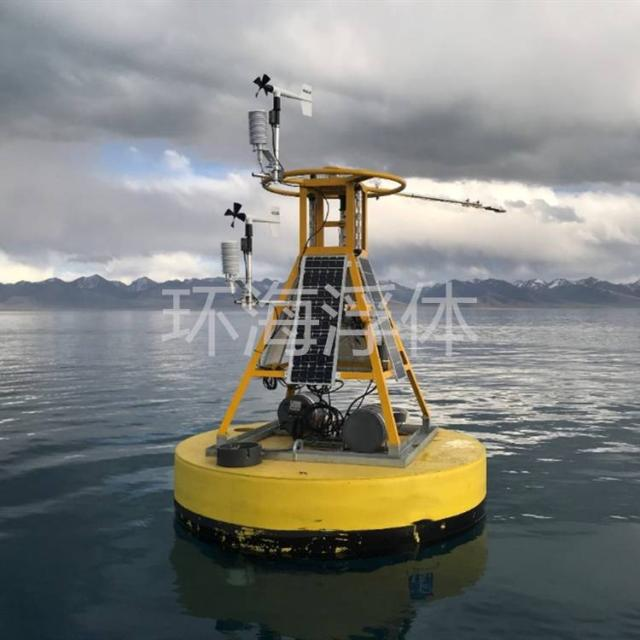buoy: (165, 68, 503, 555)
